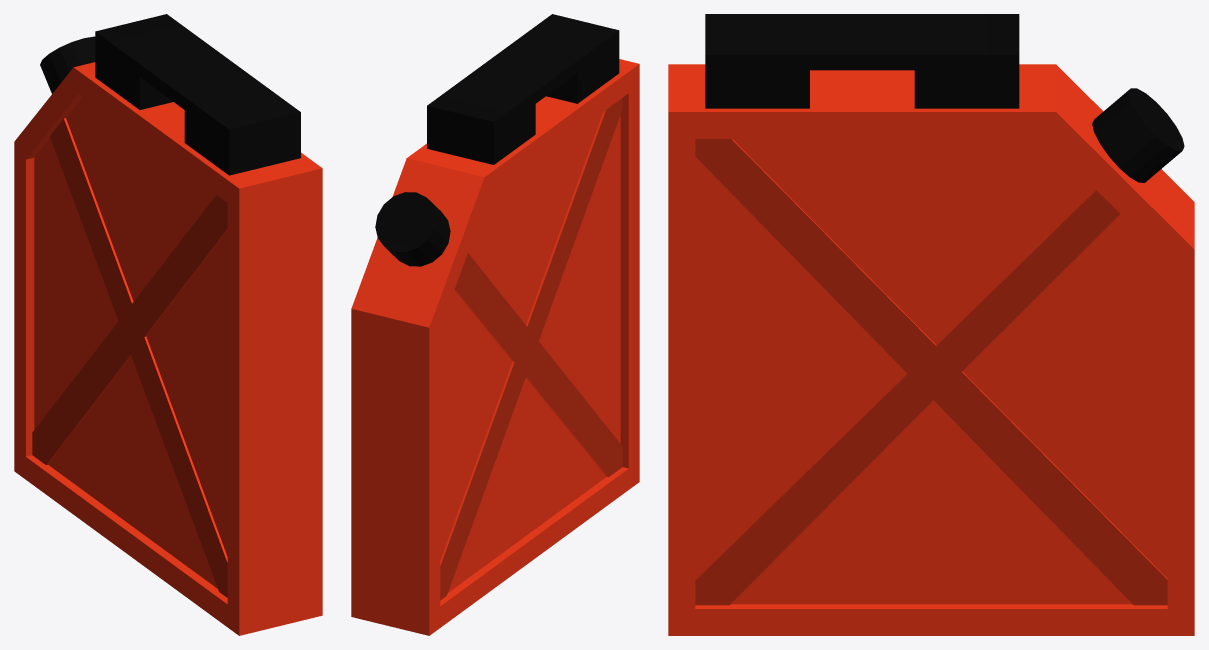
Rendered from BidonGasolina.fbx.
3 views of the same model, side by side, from view 1: azimuth 30°, elevation 25°; view 2: azimuth 150°, elevation 25°; view 3: azimuth 270°, elevation 25° (orthographic). The views are drawn at different scales.
Parts seen in each view (by area): view 1: Bidon; view 2: Bidon; view 3: Bidon.
Part boxes in pixels (x1,y1,x2,y2): Bidon: (14, 14, 322, 635); Bidon: (351, 14, 639, 635); Bidon: (668, 14, 1194, 635).
Bounding box in the file's own units: 39.02 × 221 × 182.
1 material, 1 textured.
